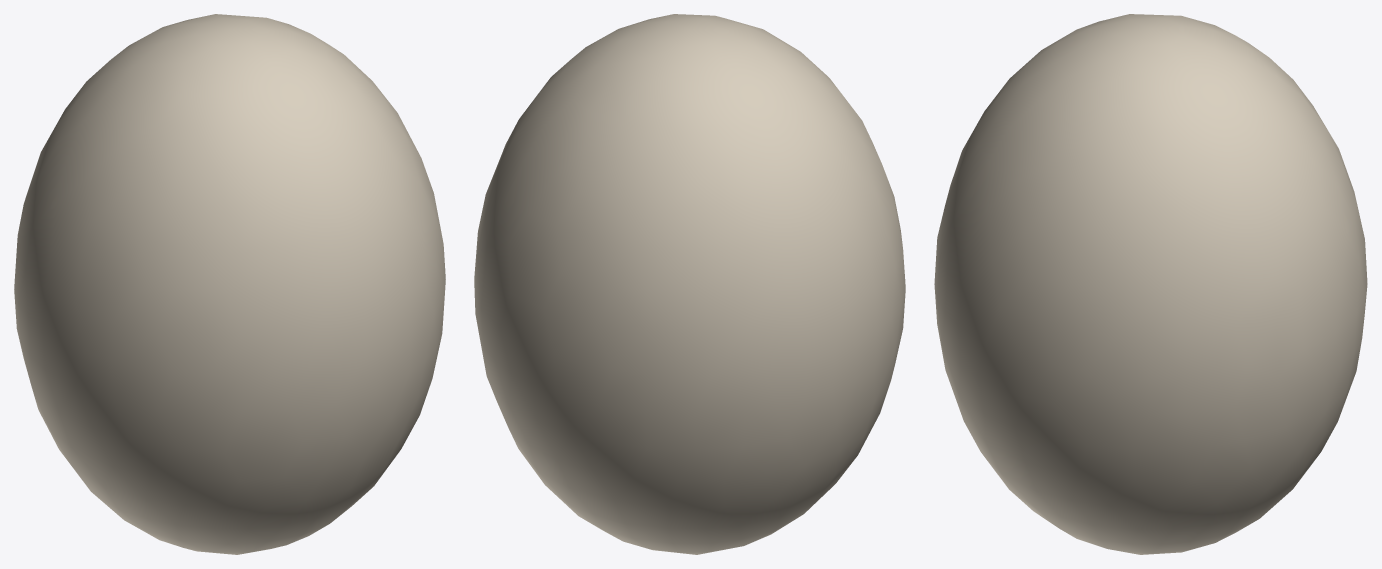
File: trung.glb
3 views of the same model, side by side, from view 1: azimuth 30°, elevation 25°; view 2: azimuth 150°, elevation 25°; view 3: azimuth 270°, elevation 25° (orthographic).
Parts seen in each view (by area): view 1: trung; view 2: trung; view 3: trung.
Boxes of the visible parts, <box> form: trung: <box>14,14,445,554</box>; trung: <box>474,14,905,554</box>; trung: <box>934,14,1367,554</box>.
Size of the model in its own units: 0.06 by 0.078 by 0.06.
